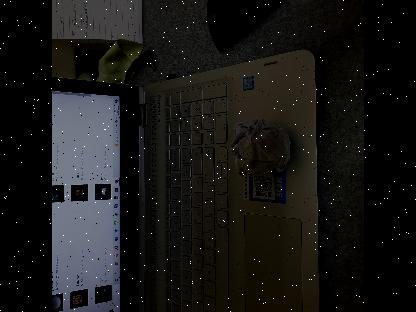Others: (226, 112, 298, 182)
